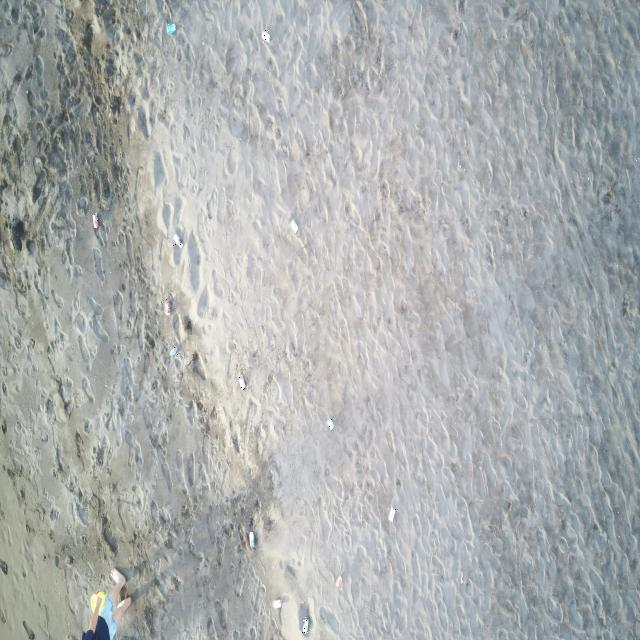tin-and-aluminum-cans: (173, 233, 183, 249), (166, 23, 178, 36), (248, 532, 256, 549), (238, 374, 246, 391), (328, 416, 336, 432), (92, 213, 100, 229), (388, 507, 396, 522), (262, 29, 270, 43), (166, 299, 172, 317), (290, 220, 298, 233), (335, 575, 343, 588), (302, 617, 308, 634), (273, 598, 282, 609), (169, 345, 178, 356)
